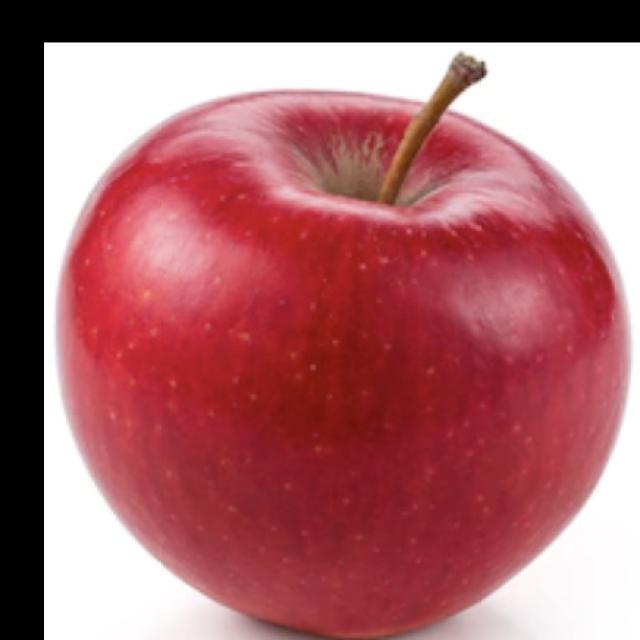Apple: (54, 52, 632, 639)
